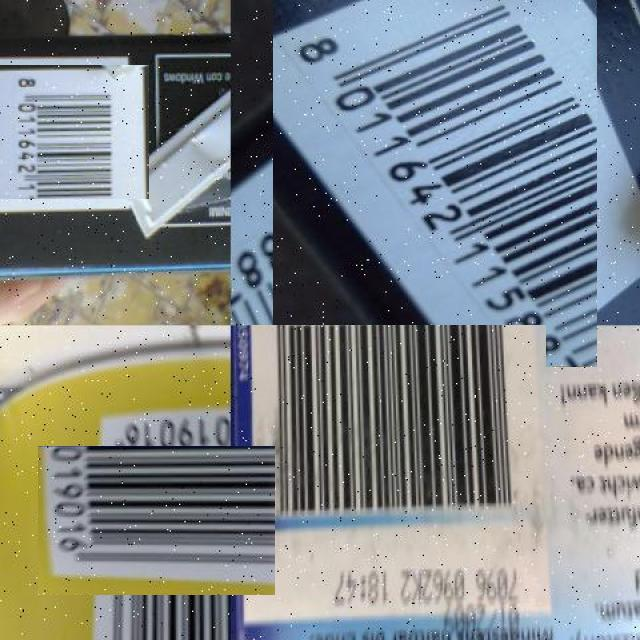Barcode: (252, 0, 619, 346), (250, 326, 546, 514), (60, 424, 253, 618), (0, 57, 142, 207)
